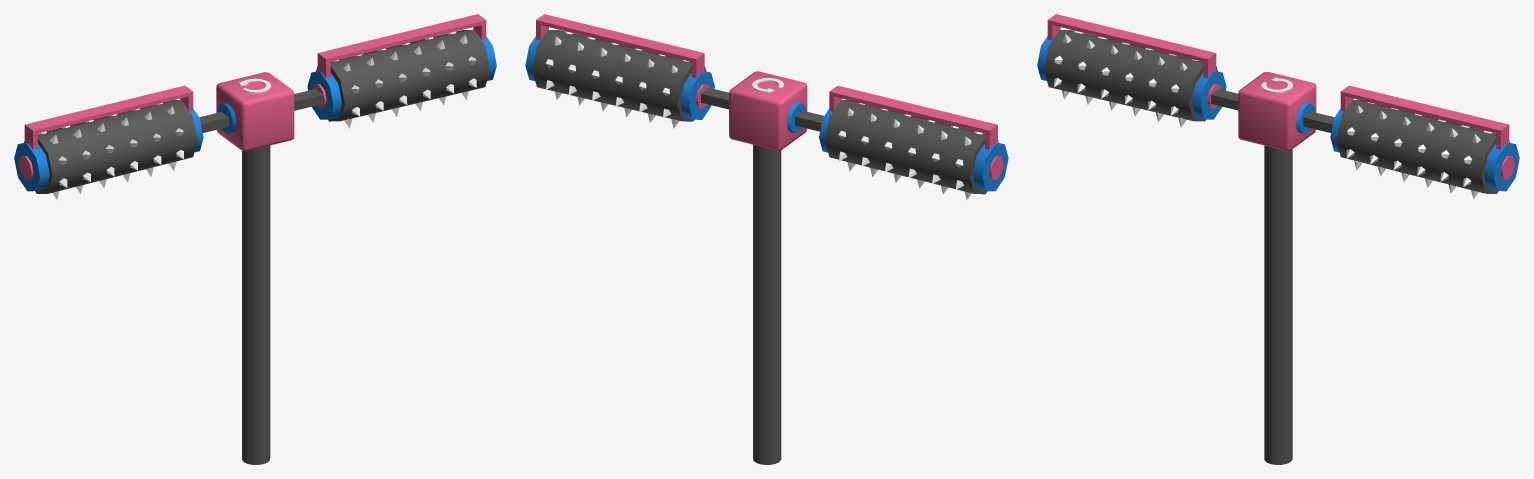
File: trap_011.fbx
The picture shows the model from 3 angles, left to right: view 1: azimuth 30°, elevation 25°; view 2: azimuth 150°, elevation 25°; view 3: azimuth 330°, elevation 25°; orthographic projection.
Visible parts, largest first — view 1: trap_011; view 2: trap_011; view 3: trap_011.
Boxes of the visible parts, x1=… form: trap_011: x1=14, y1=14, x2=496, y2=464; trap_011: x1=525, y1=14, x2=1008, y2=464; trap_011: x1=1037, y1=14, x2=1519, y2=464.
Size of the model in its own units: 3383 by 2711 by 463.
